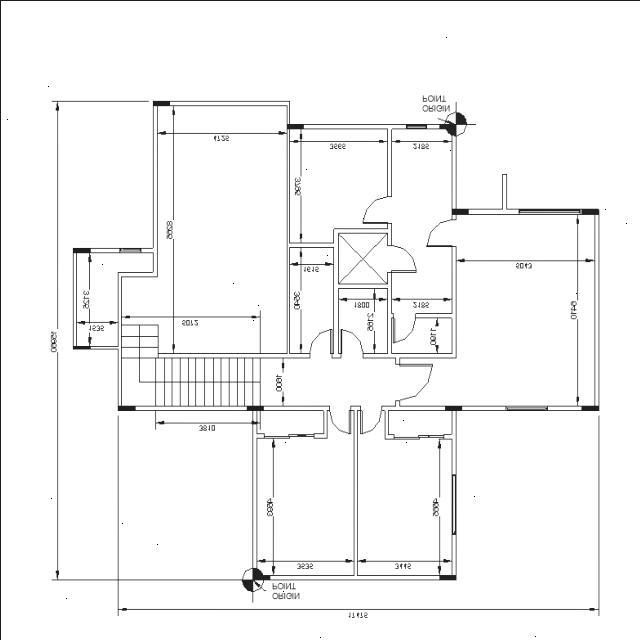Column: (252, 574, 270, 580), (438, 574, 456, 580), (580, 404, 598, 410), (580, 208, 598, 214), (444, 404, 461, 410), (451, 208, 468, 214), (286, 122, 303, 128), (152, 100, 169, 106), (438, 123, 456, 128), (72, 247, 90, 252), (116, 405, 134, 410), (246, 405, 263, 410), (72, 344, 90, 348)
Door: (394, 363, 432, 400), (386, 244, 416, 272), (426, 219, 456, 246), (362, 195, 391, 222), (392, 312, 414, 344), (340, 328, 362, 358), (359, 405, 381, 434), (309, 328, 331, 357), (328, 405, 350, 433)
Sliding Door: (263, 432, 313, 438), (393, 434, 443, 438)
Staircase: (120, 324, 259, 405)
Window: (518, 208, 580, 215), (505, 404, 547, 410), (451, 474, 455, 534), (118, 246, 140, 252), (405, 123, 426, 128)
